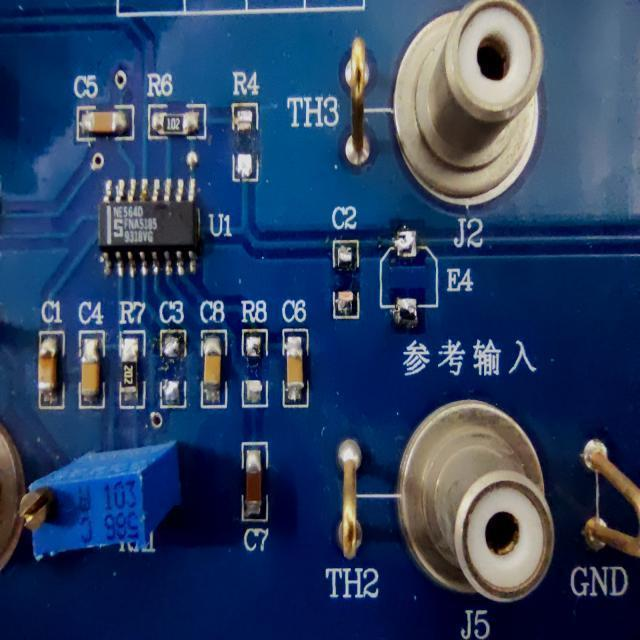Missing component: (374, 203, 489, 334), (227, 63, 266, 194), (233, 295, 272, 413), (328, 196, 361, 326), (155, 298, 188, 416)
